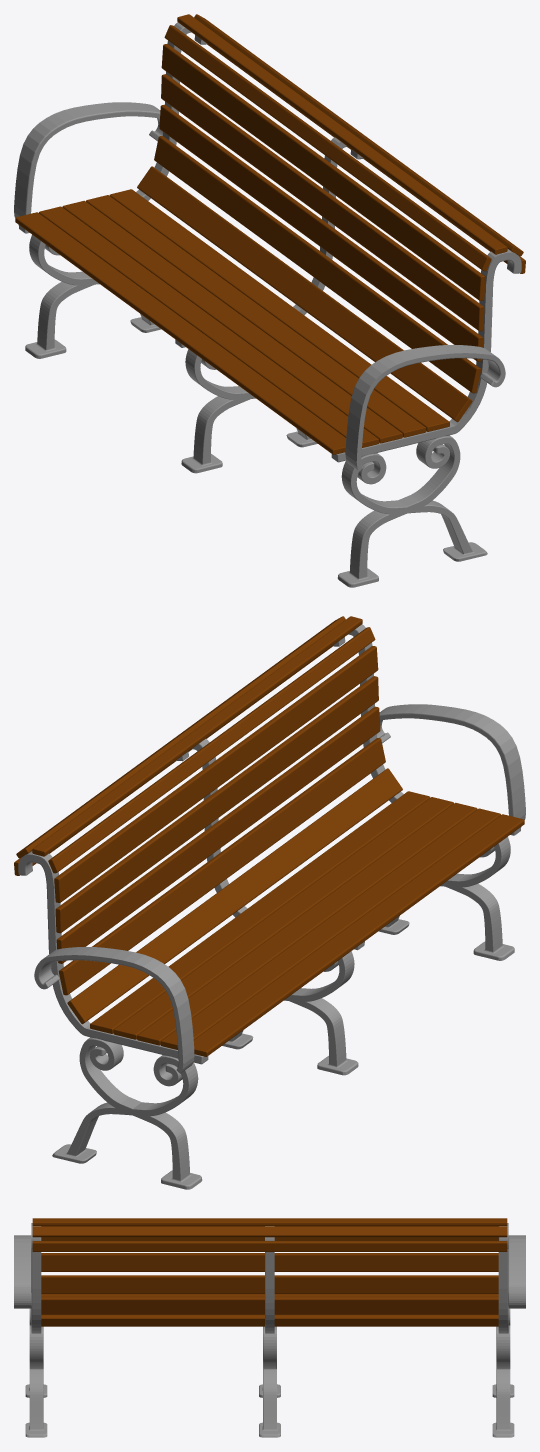
The model's file is Bench.fbx.
The picture shows the model from 3 angles, top to bottom: view 1: azimuth 30°, elevation 25°; view 2: azimuth 150°, elevation 25°; view 3: azimuth 270°, elevation 25°; orthographic projection. The views are drawn at different scales.
Visible parts, largest first — view 1: Bench; view 2: Bench; view 3: Bench.
Part boxes in pixels (x1,y1,x2,y2): Bench: (14, 14, 525, 587); Bench: (14, 616, 525, 1189); Bench: (14, 1218, 525, 1437).
Size of the model in its own units: 754 by 1116 by 2317.
